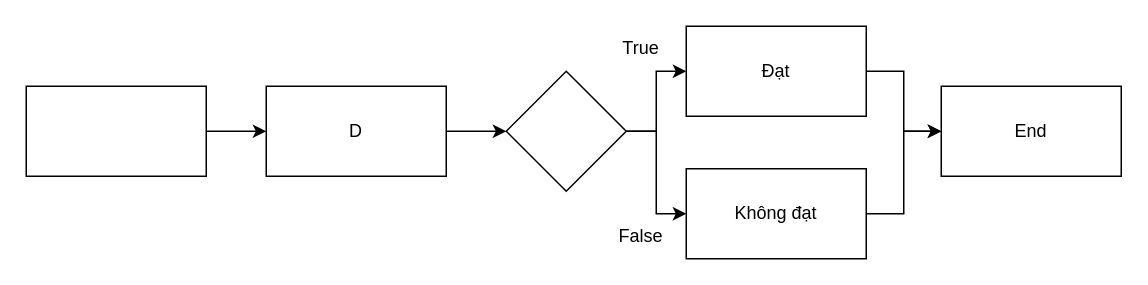
The diagram is 1148 pixels wide and 285 high, and some of its shapes have lost their labels. Here are the shapes that lost their labels. From the top down, the box of each, then its label:
(25, 85, 206, 176): Start
(505, 70, 626, 191): D>5
